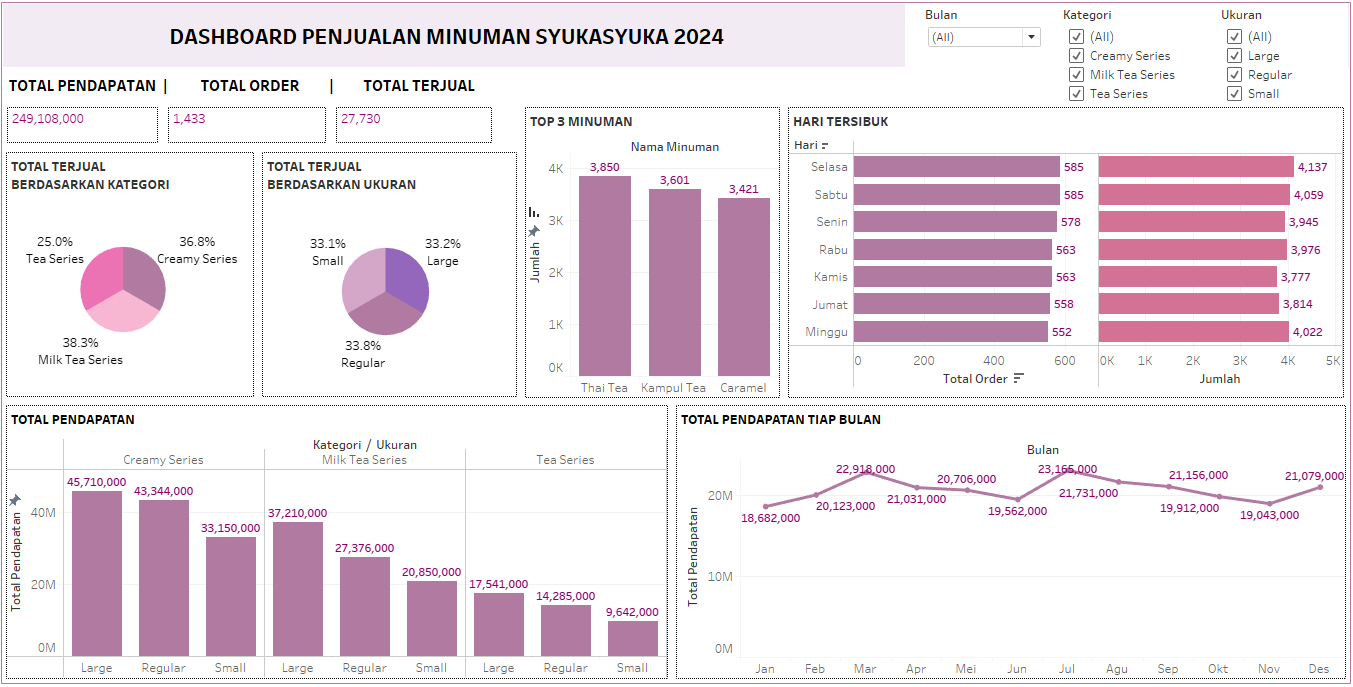

This screenshot's page, from the dashboard's own definition file:
{"tool":"tableau","page":{"name":"Dashboard","canvas":[1000,1000],"units":"permille","ordinal":0},"visuals":[{"type":"blank","box":[667.5,12.9,324.7,97.4]},{"type":"filter","title":"Total Pendapatan Tiap Bulan","param":"[federated.0g6lpq21umlc4010uhw940jtgj2p].[none:Calculation_860750502063063042:nk","box":[682.2,16.5,87.5,80.9]},{"type":"filter","title":"Total Pendapatan","param":"[federated.0g6lpq21umlc4010uhw940jtgj2p].[none:Kategori:nk]","box":[783.6,16.5,103,182]},{"type":"filter","title":"Total Pendapatan","param":"[federated.0g6lpq21umlc4010uhw940jtgj2p].[none:Ukuran:nk]","box":[898.7,16.5,81.4,169.1]},{"type":"text","box":[6.7,16.6,986.6,92.5]},{"type":"text","box":[6.7,109,986.6,47.8]},{"type":"worksheet","title":"Total Pendapatan Keseluruhan","mark":"Automatic","box":[6.7,156.8,118,65.8]},{"type":"worksheet","title":"Total Order Keseluruhan","mark":"Automatic","box":[124.7,156.8,122.8,65.8]},{"type":"worksheet","title":"Total Terjual Keseluruhan","mark":"Automatic","box":[247.5,156.8,121.5,65.8]},{"type":"blank","box":[369,156.8,624.3,65.8]},{"type":"worksheet","title":"Top 3 Minuman","mark":"Bar","rows":["Jumlah"],"cols":["Nama_Minuman"],"box":[389.6,161.8,187,417.3]},{"type":"worksheet","title":"Hari Tersibuk","mark":"Automatic","rows":["Hari"],"cols":["Order_ID","Jumlah"],"box":[581.8,161.8,406.9,417.3]},{"type":"worksheet","title":"Total Terjual by Kategori","mark":"Pie","box":[6.7,222.6,187.2,360]},{"type":"worksheet","title":"Total Terjual by Ukuran","mark":"Pie","box":[194,222.6,192.7,360]},{"type":"blank","box":[386.6,222.6,606.7,360]},{"type":"worksheet","title":"Total Pendapatan","mark":"Automatic","rows":["Total_Harga"],"cols":["Kategori","Ukuran"],"box":[6.7,582.6,490.3,400.8]},{"type":"worksheet","title":"Total Pendapatan Tiap Bulan","mark":"Line","rows":["Total_Harga"],"cols":["Calculation_860750502063063042"],"box":[497,582.6,496.3,400.8]}]}

Visuals, with their boxes on the dashboard's canvas, which has no fixed pixel size, in thousandths of its width and height (x1, y1, x2, y2). These are canvas units, not pixel positions in the 1353x687 screenshot, which may show the page scaled, cropped or inside an application window:
blank: 668 13 992 110
"Total Pendapatan Tiap Bulan" filter: 682 16 770 97
"Total Pendapatan" filter: 784 16 887 198
"Total Pendapatan" filter: 899 16 980 186
text: 7 17 993 109
text: 7 109 993 157
"Total Pendapatan Keseluruhan" worksheet: 7 157 125 223
"Total Order Keseluruhan" worksheet: 125 157 248 223
"Total Terjual Keseluruhan" worksheet: 248 157 369 223
blank: 369 157 993 223
"Top 3 Minuman" worksheet (Bar marks): 390 162 577 579
"Hari Tersibuk" worksheet: 582 162 989 579
"Total Terjual by Kategori" worksheet (Pie marks): 7 223 194 583
"Total Terjual by Ukuran" worksheet (Pie marks): 194 223 387 583
blank: 387 223 993 583
"Total Pendapatan" worksheet: 7 583 497 983
"Total Pendapatan Tiap Bulan" worksheet (Line marks): 497 583 993 983
